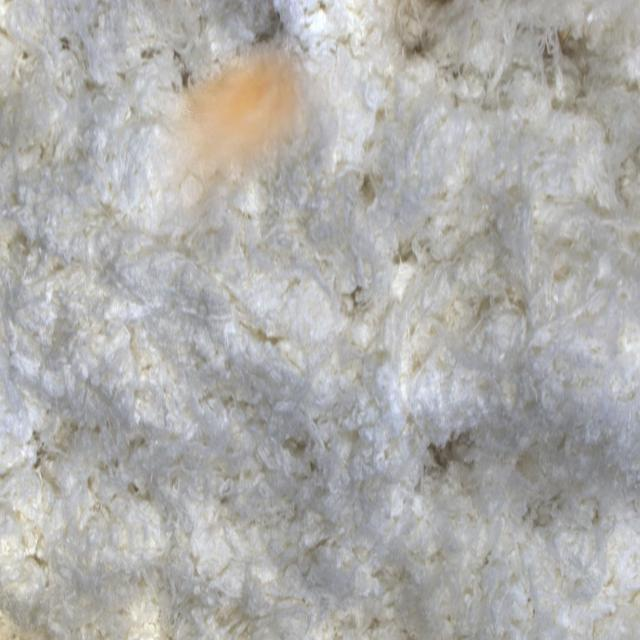dust: (140, 36, 346, 284)
